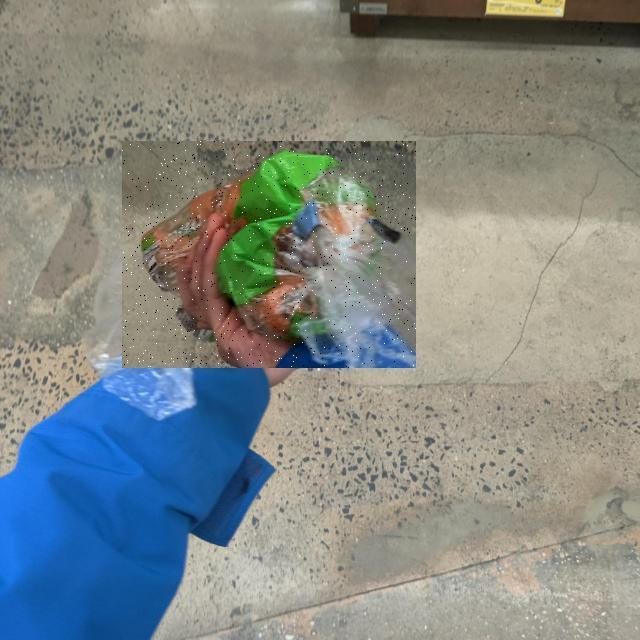carrot: (0, 184, 332, 552)
